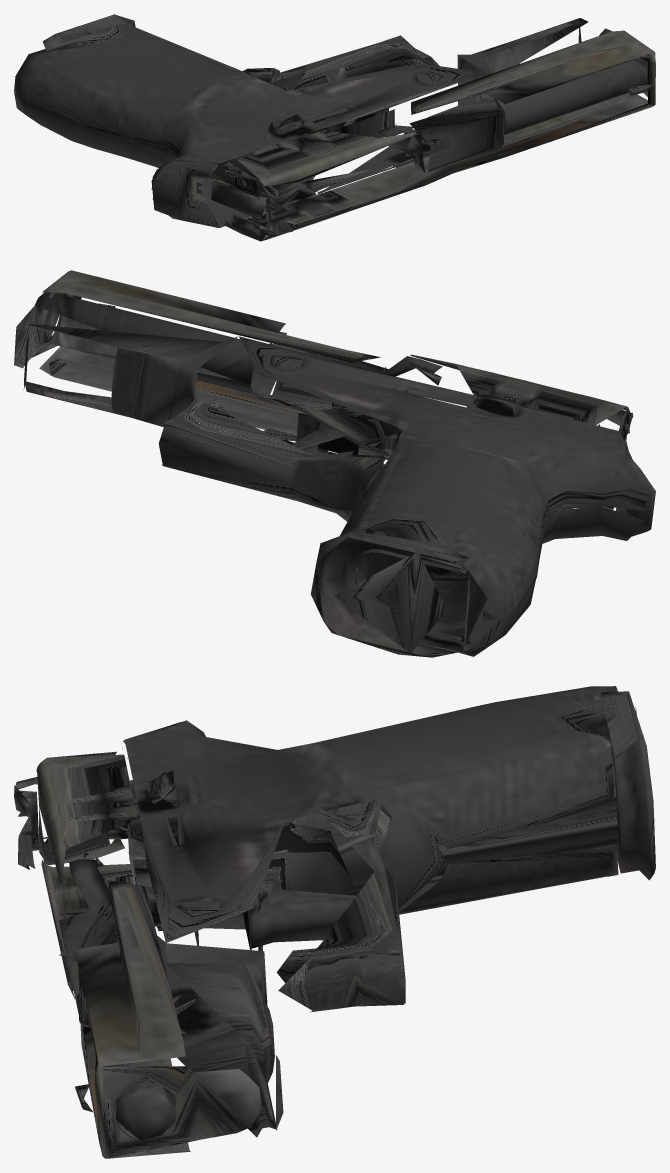
3 views of the same model, one above another, from view 1: azimuth 30°, elevation 25°; view 2: azimuth 150°, elevation 25°; view 3: azimuth 270°, elevation 25° (orthographic). The views are drawn at different scales.
Parts seen in each view (by area): view 1: p_p228; view 2: p_p228; view 3: p_p228.
Boxes of the visible parts, <box> form: p_p228: <box>14,14,655,241</box>; p_p228: <box>14,270,655,657</box>; p_p228: <box>14,686,655,1158</box>.
Size of the model in its own units: 0.3533 by 0.0664 by 0.2407.
Materials: 1 (1 with a texture image).
